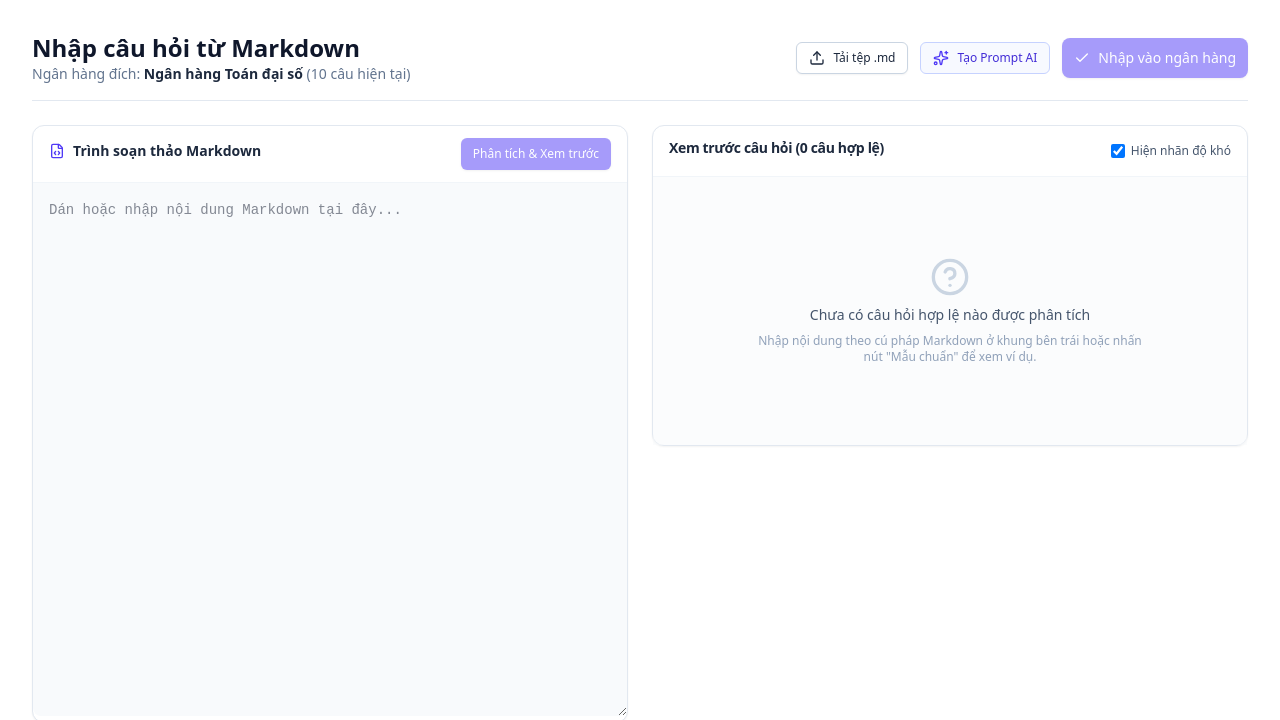
Test case: MarkdownImportPage › opens GeneratePromptModal and generates customized prompt for AI
The width and height of the screenshot is (1280, 720).
Click "Tạo Prompt AI" button
Click the button "Tạo Prompt AI" at x=985, y=58, box [920, 42, 1050, 74]
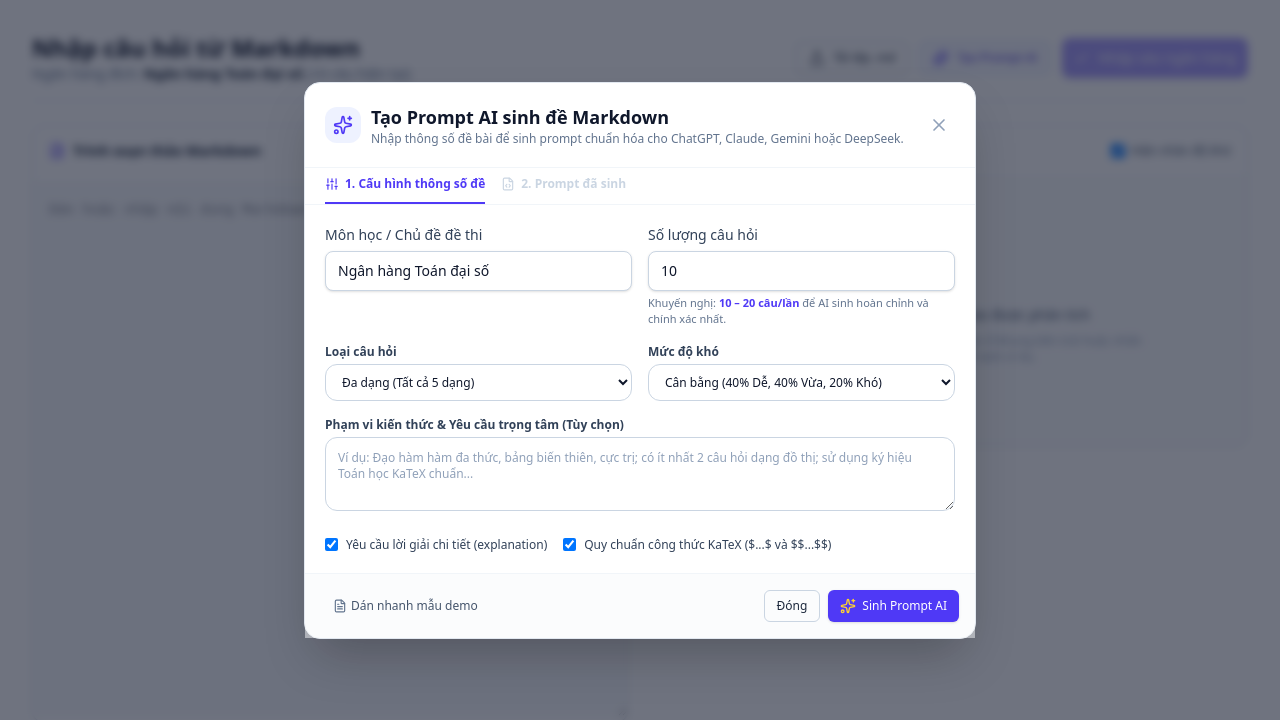
Expected: the heading "Tạo Prompt AI sinh đề Markdown" is shown, [371, 104, 669, 128]
Expected: the field labelled "Môn học / Chủ đề đề thi" is shown, [325, 250, 632, 290]
Submit form to generate prompt
Click the button "Sinh Prompt AI" at x=894, y=606, box [828, 590, 959, 622]
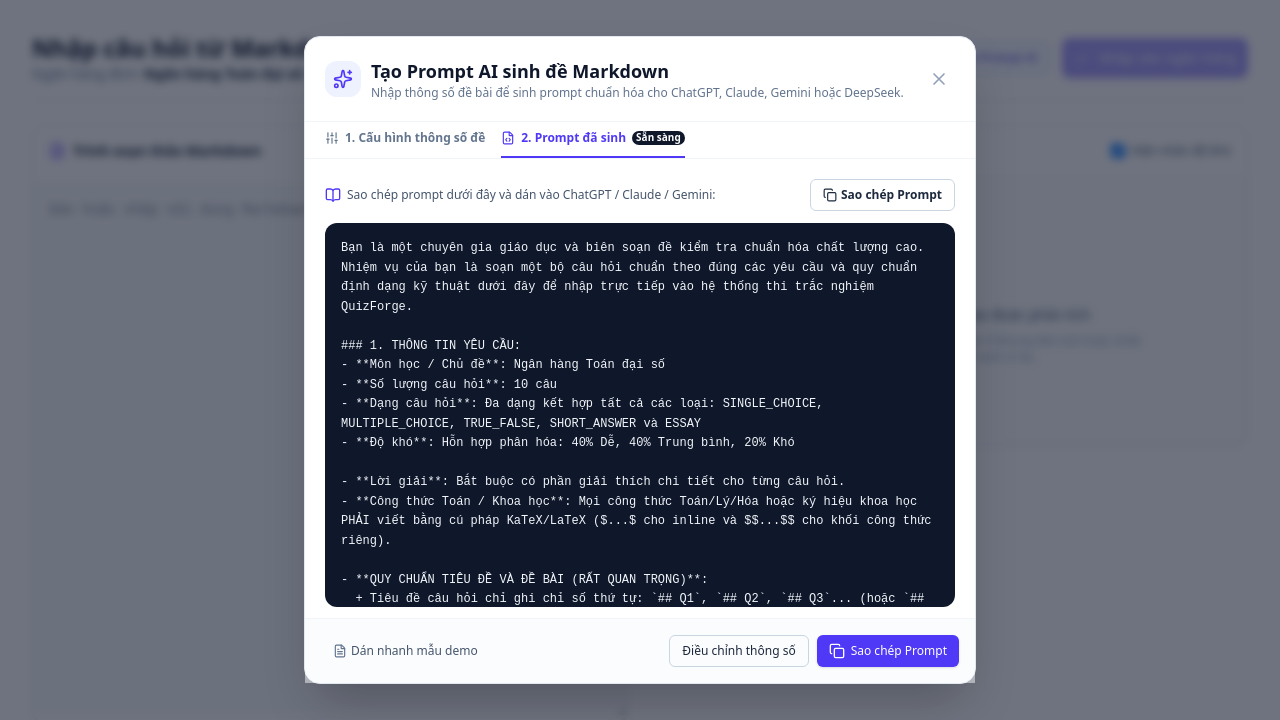
Expected: the text "Sao chép prompt dưới đây và dán vào ChatGPT" is shown, [347, 186, 716, 203]
Expected: the 1st button "Sao chép Prompt" is shown, [810, 179, 955, 211]
